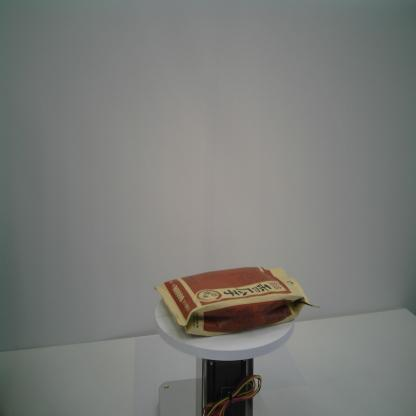Dried Food: (152, 266, 322, 338)
